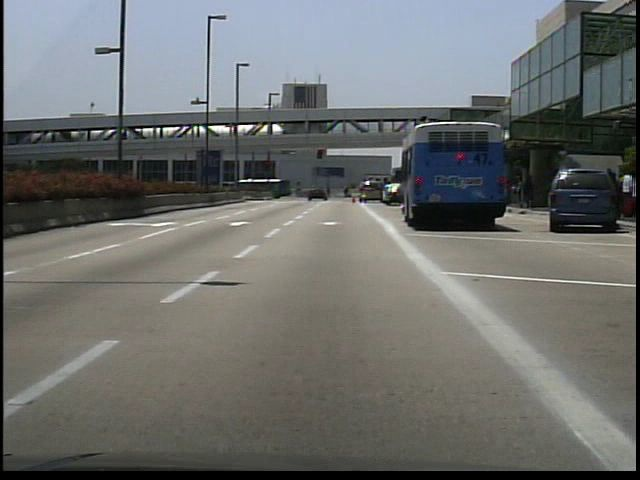person: (617, 169, 635, 218), (522, 173, 534, 209), (341, 185, 353, 199), (638, 163, 639, 222), (328, 185, 329, 201)
